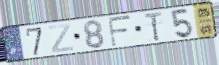5: (168, 6, 195, 39)
7: (25, 26, 44, 57)
8: (82, 19, 106, 50)
F: (107, 14, 133, 48)
T: (143, 10, 164, 43)
Z: (47, 22, 75, 54)
